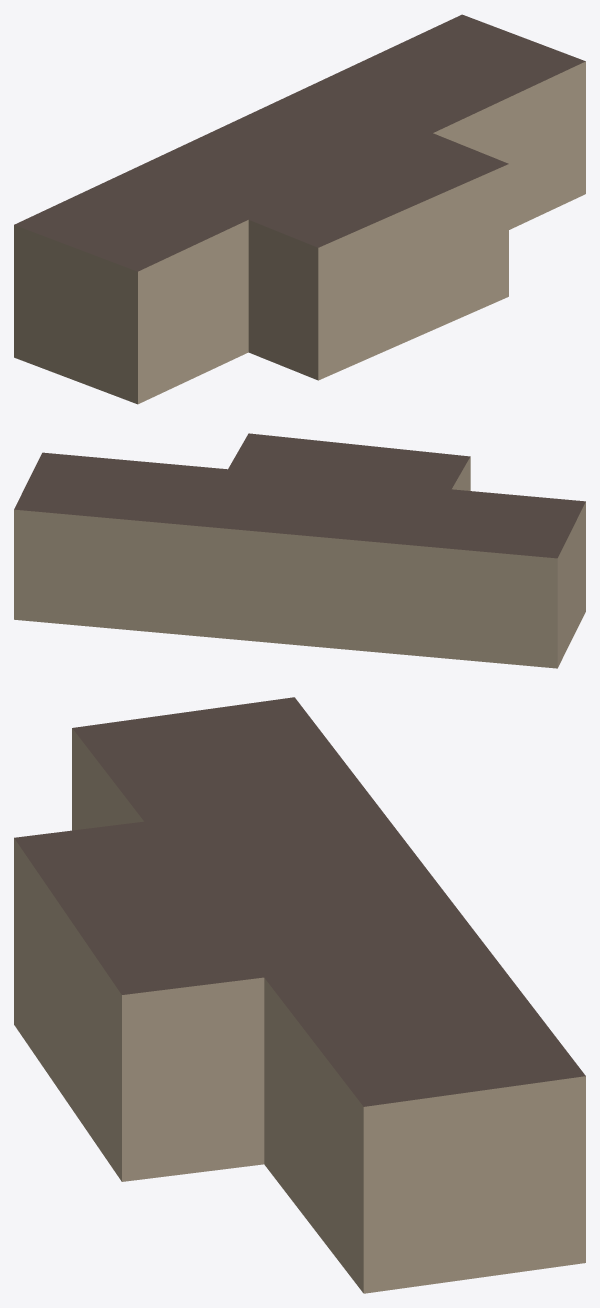
3 renders of one model, top to bottom at view 1: azimuth 30°, elevation 25°; view 2: azimuth 150°, elevation 25°; view 3: azimuth 270°, elevation 25°, orthographic. The views are drawn at different scales.
Visible parts, largest first — view 1: HP-w373833622; view 2: HP-w373833622; view 3: HP-w373833622.
Part boxes in pixels (x1,y1,x2,y2): HP-w373833622: [14, 14, 585, 404]; HP-w373833622: [14, 433, 585, 668]; HP-w373833622: [14, 697, 585, 1293].
Bounding box in the file's own units: 42.33 × 9 × 24.97.
